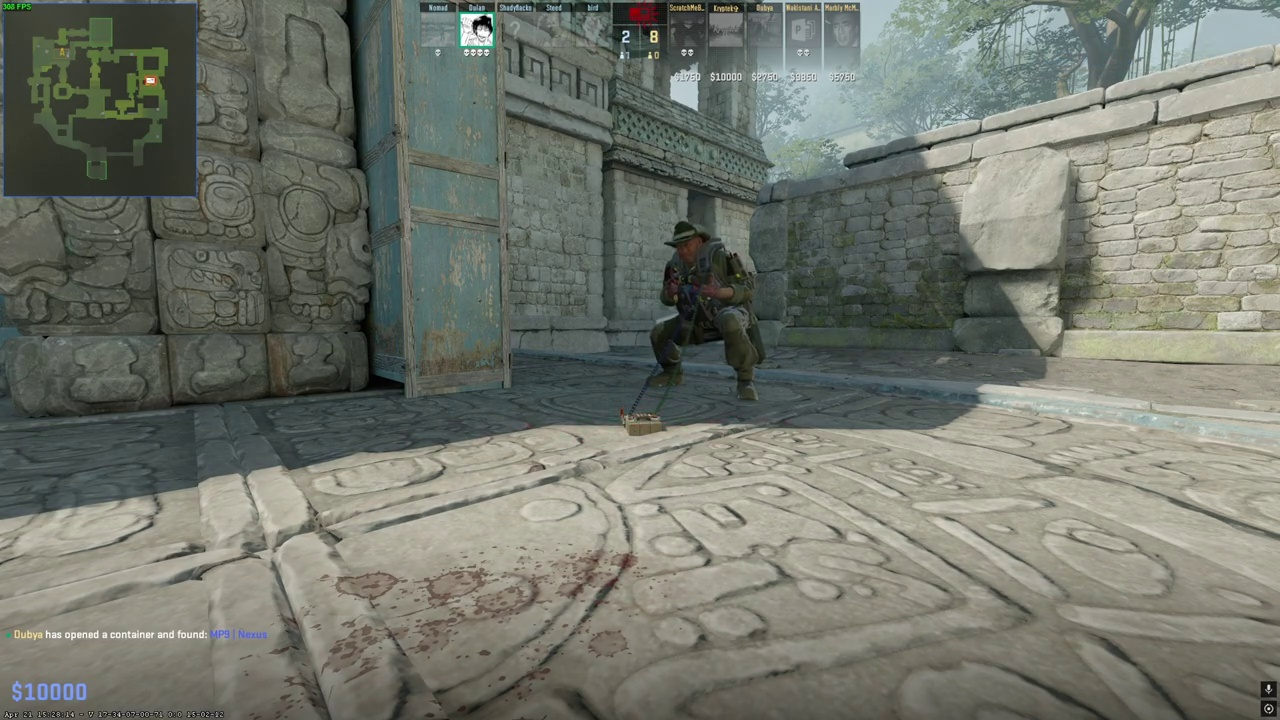CT: (645, 221, 766, 401)
